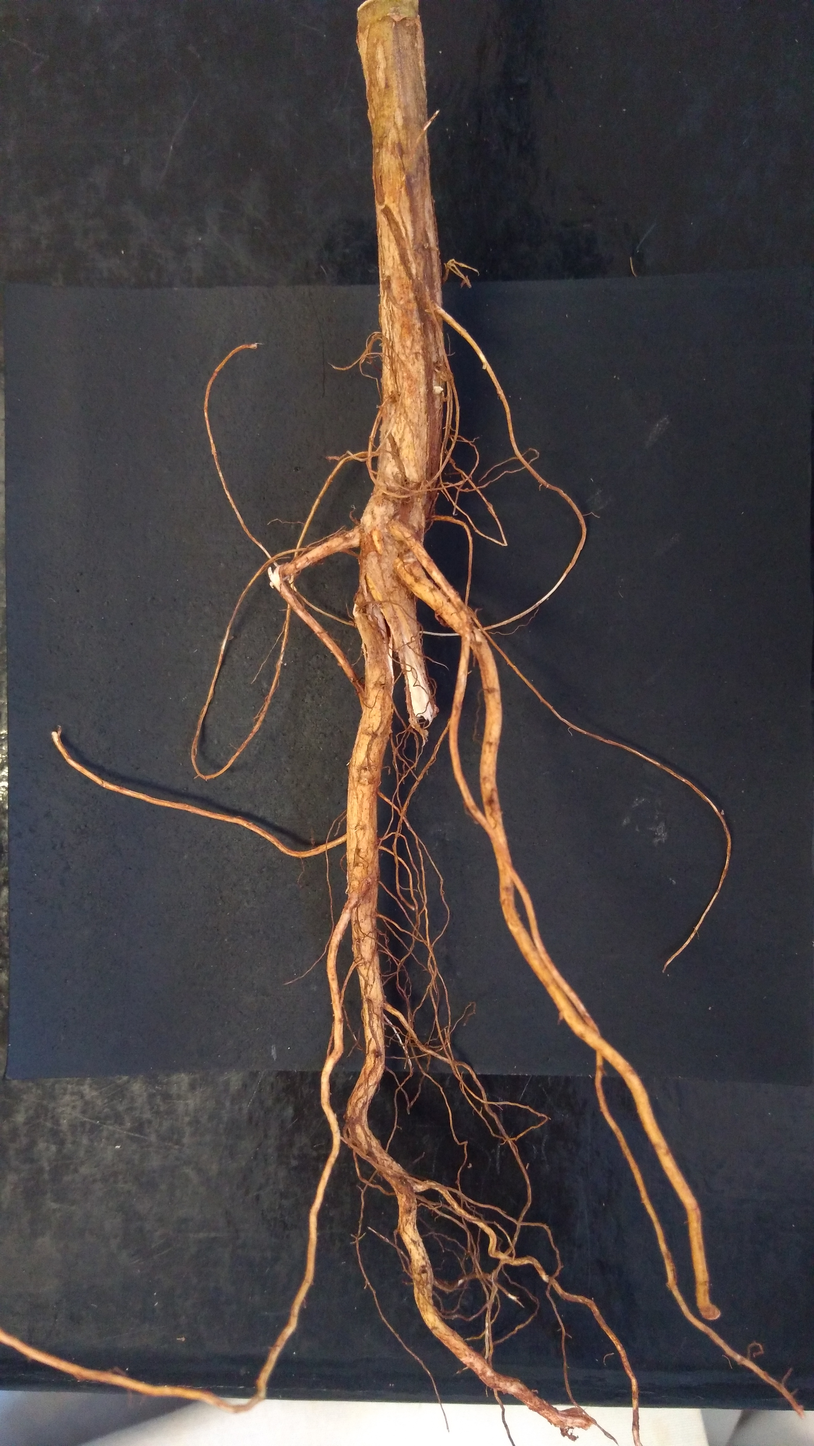nodule: (433, 386, 444, 395), (419, 729, 429, 737), (434, 706, 439, 713)
